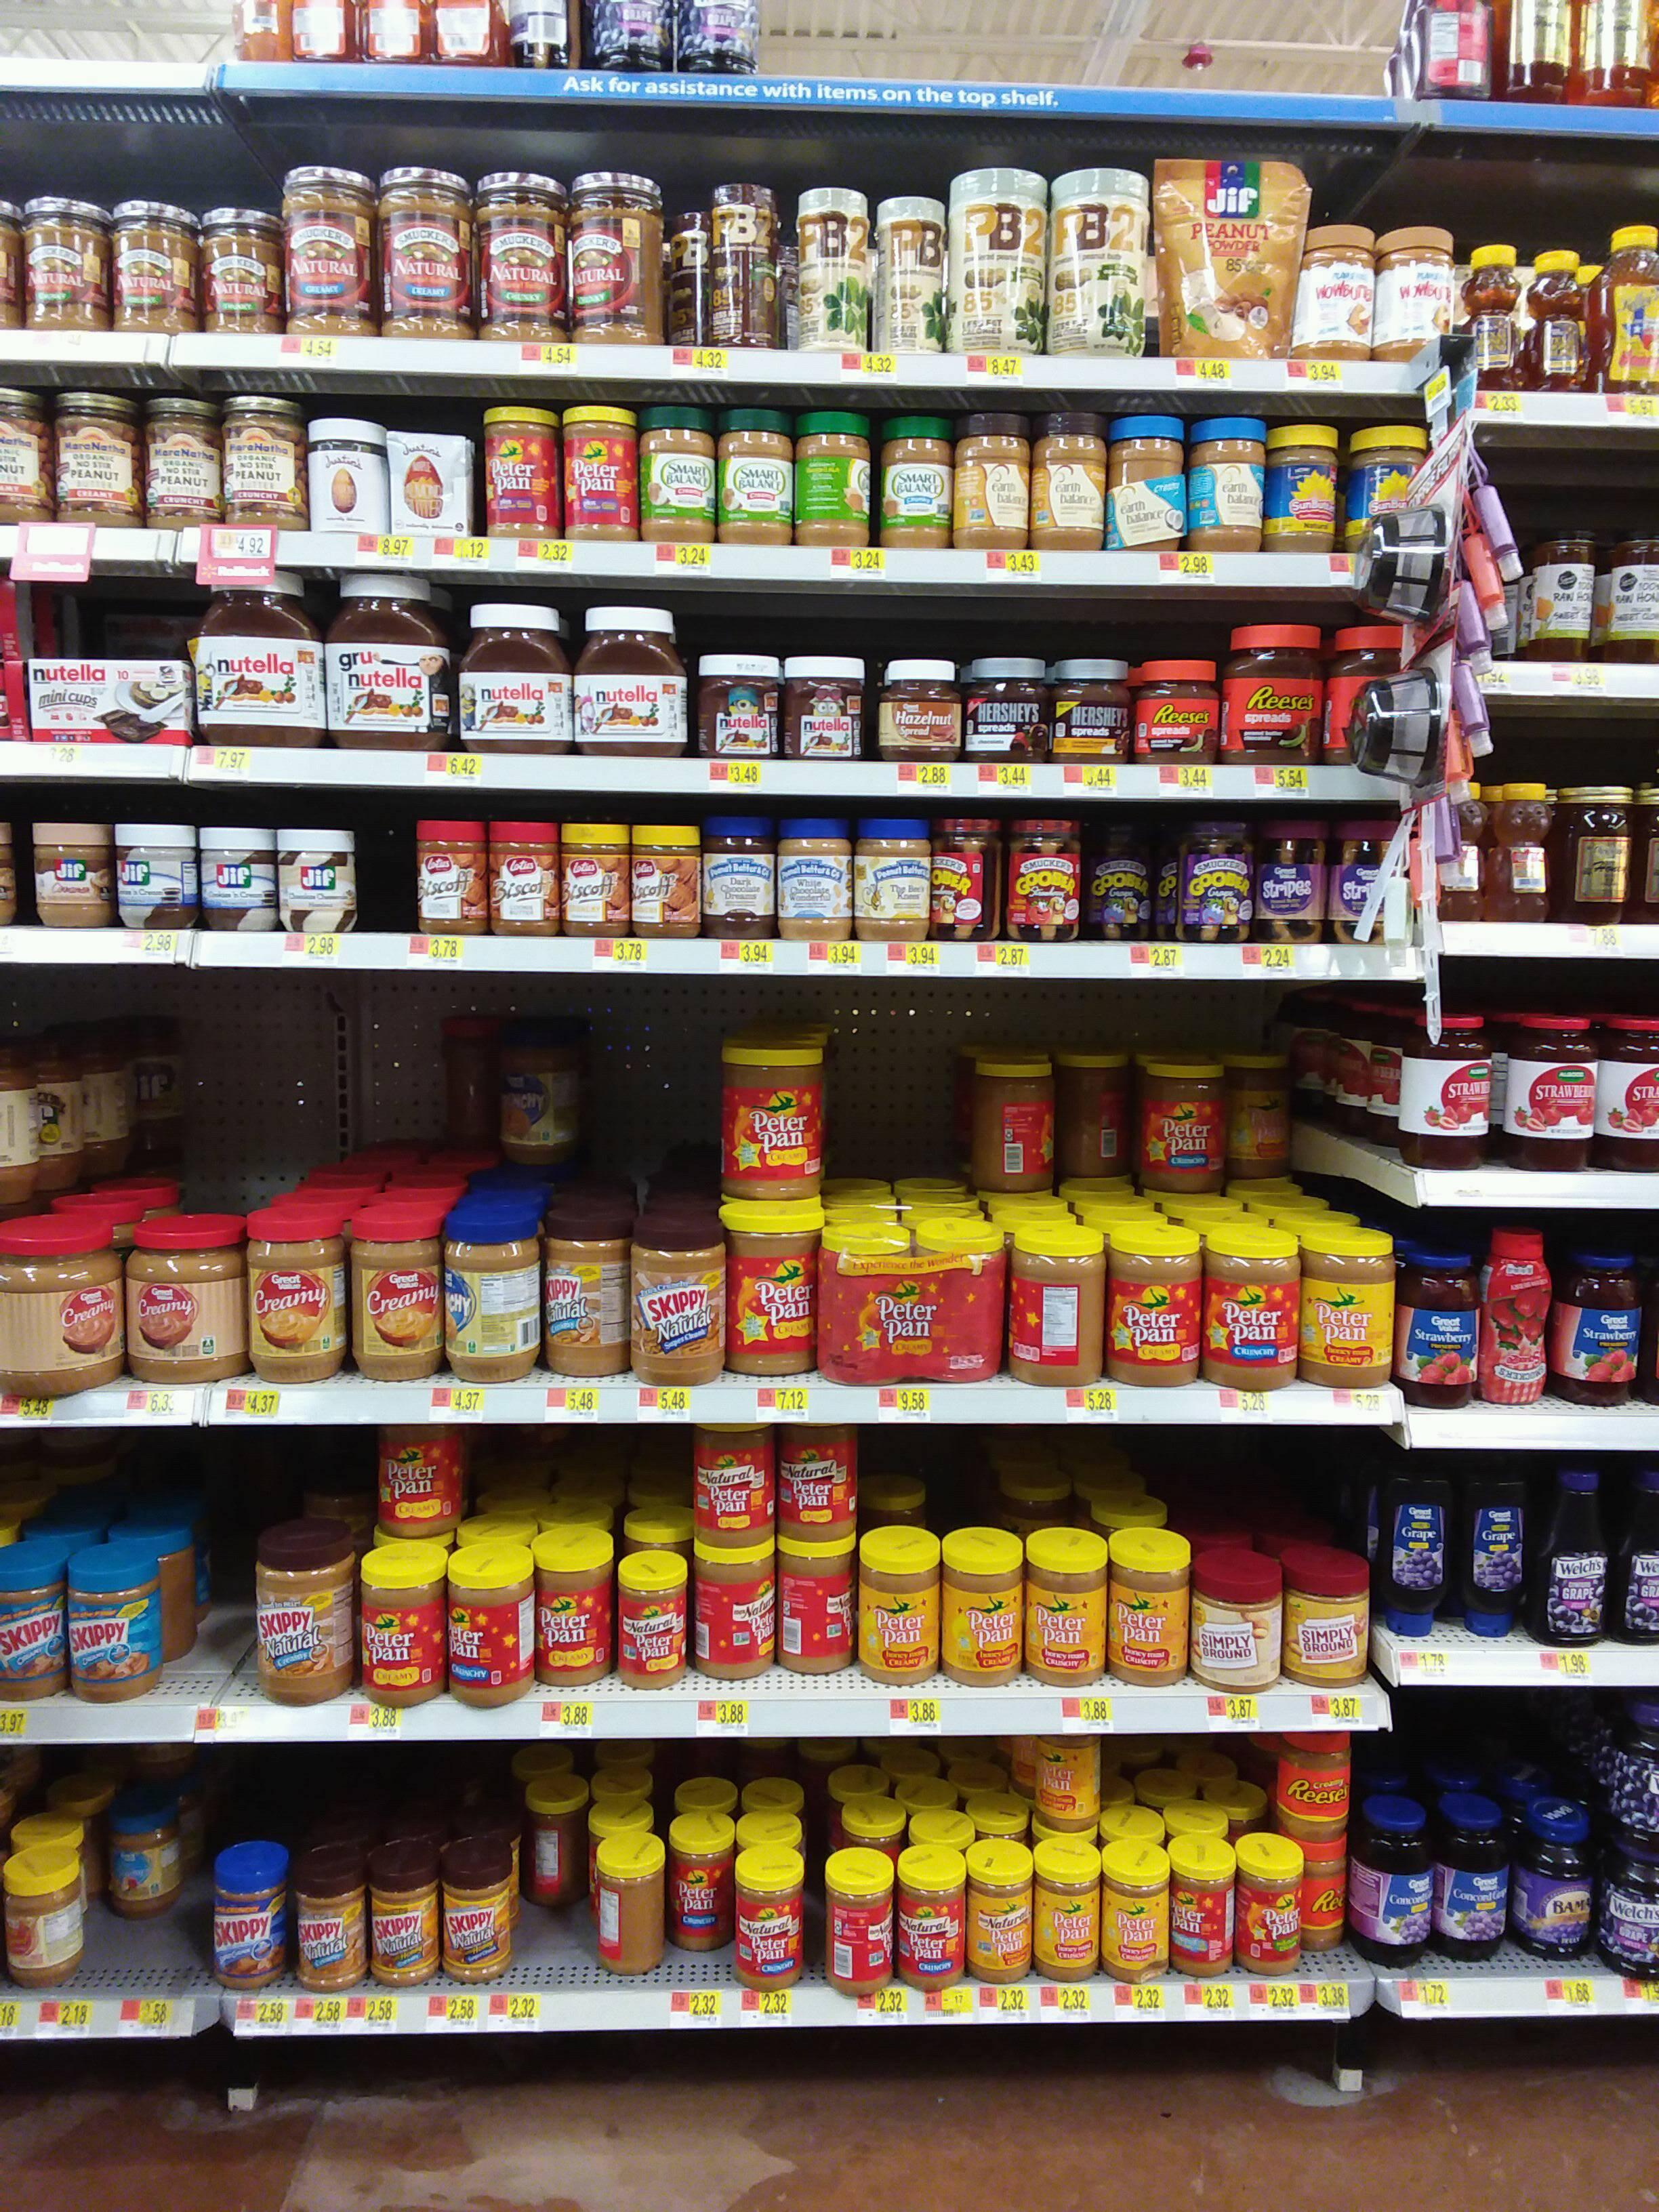empty: (769, 10, 1378, 82), (193, 1474, 249, 1681), (7, 19, 221, 63), (362, 803, 413, 923)
misalignment: (112, 1794, 197, 1919)
